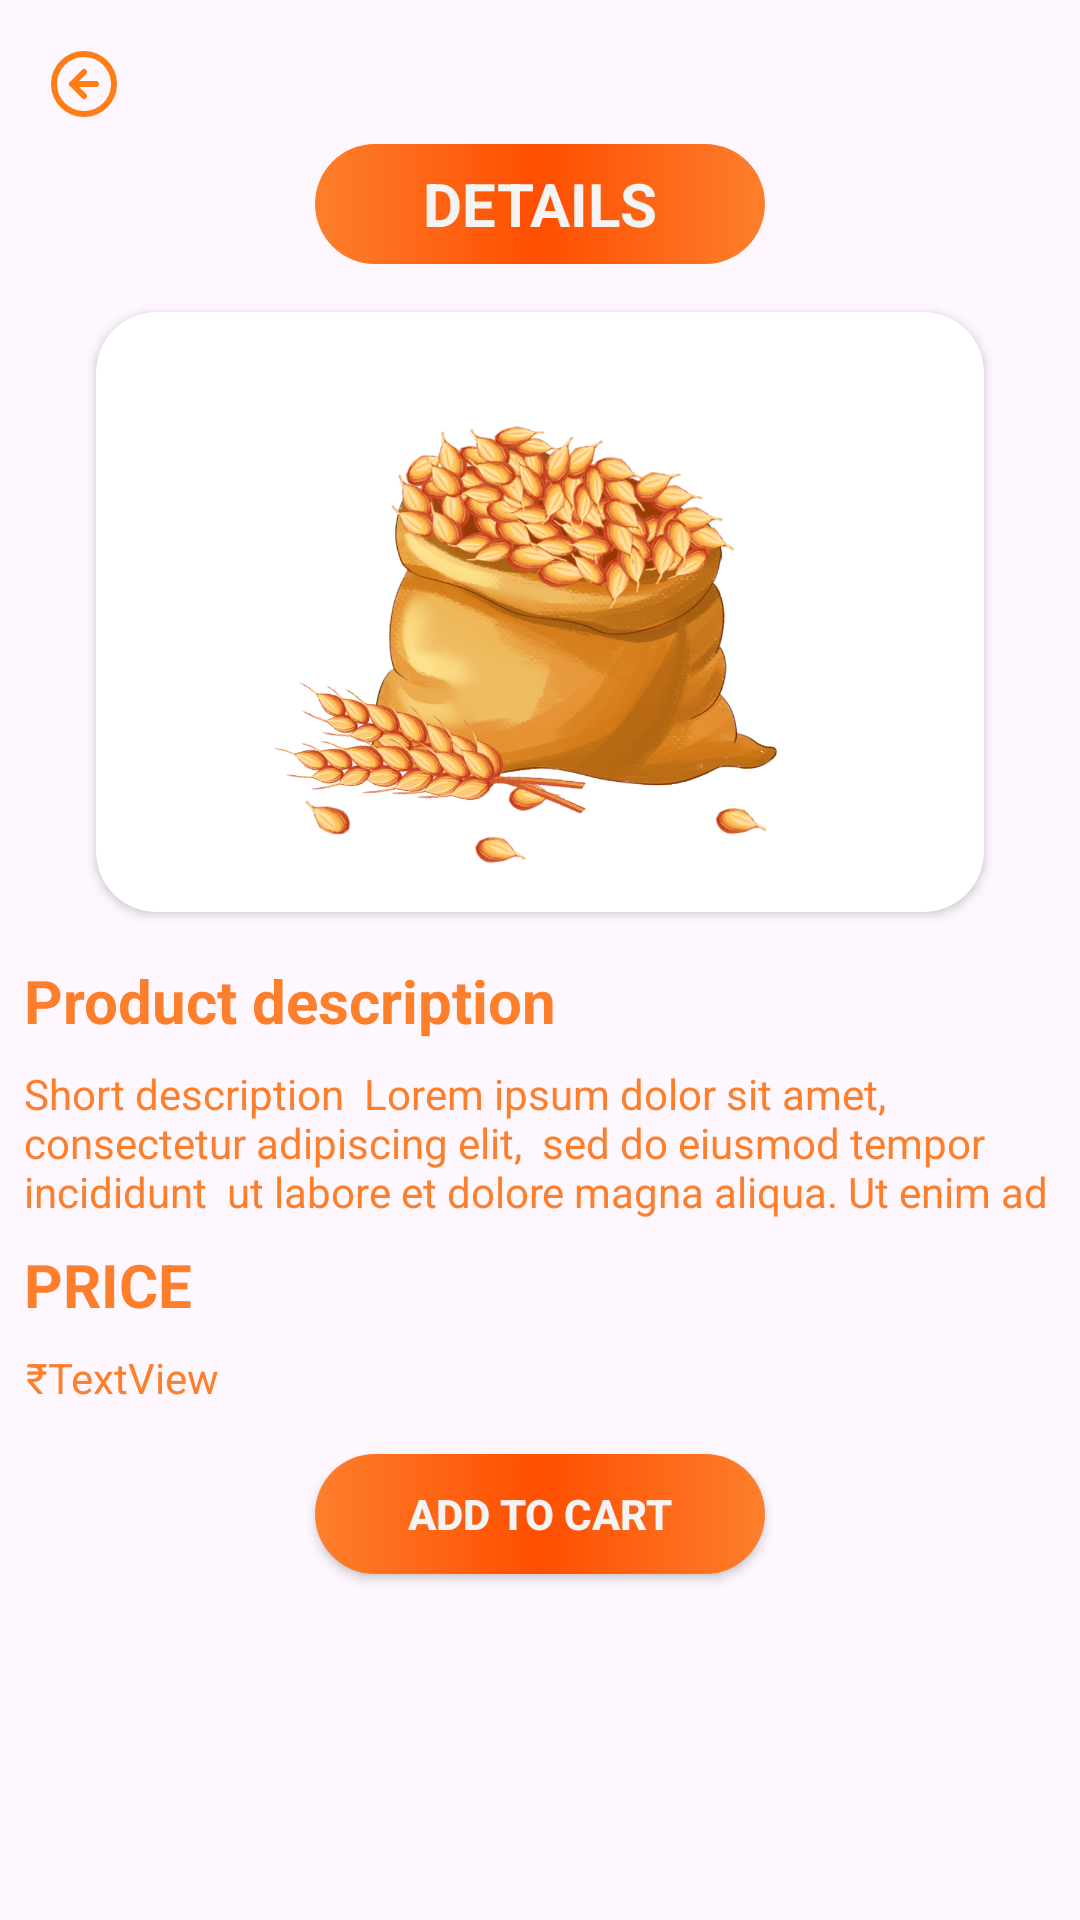

Screen size 1080x1920. Icon name, then its box in pixels as detection(x1, y1, x2, y2):
arrow circle left: detection(51, 51, 117, 117)
